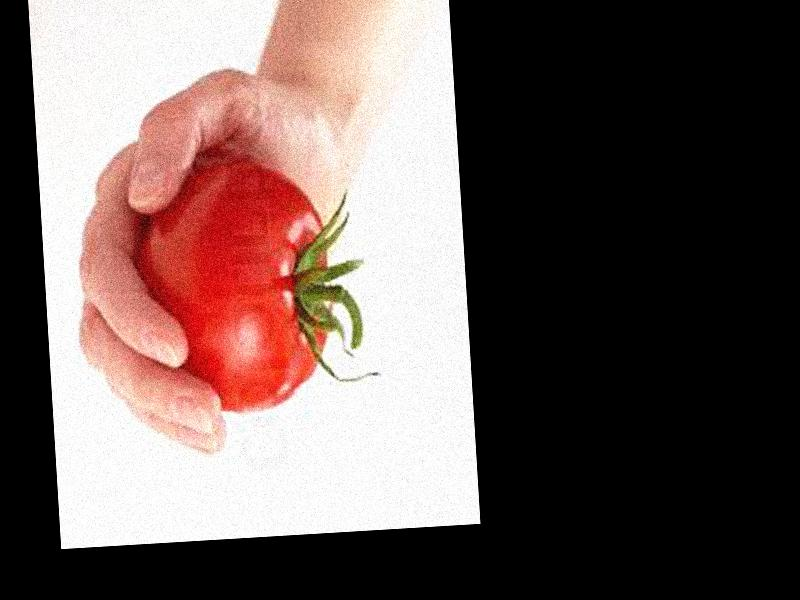Tomato: (132, 161, 339, 418)
